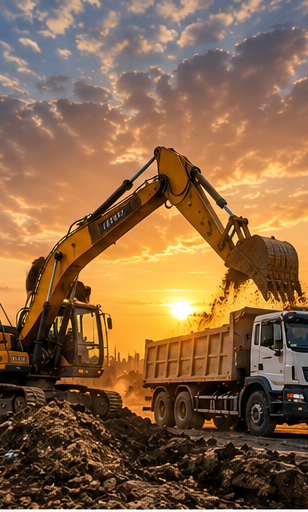excavator: (5, 150, 293, 403)
truck: (142, 296, 304, 452)
